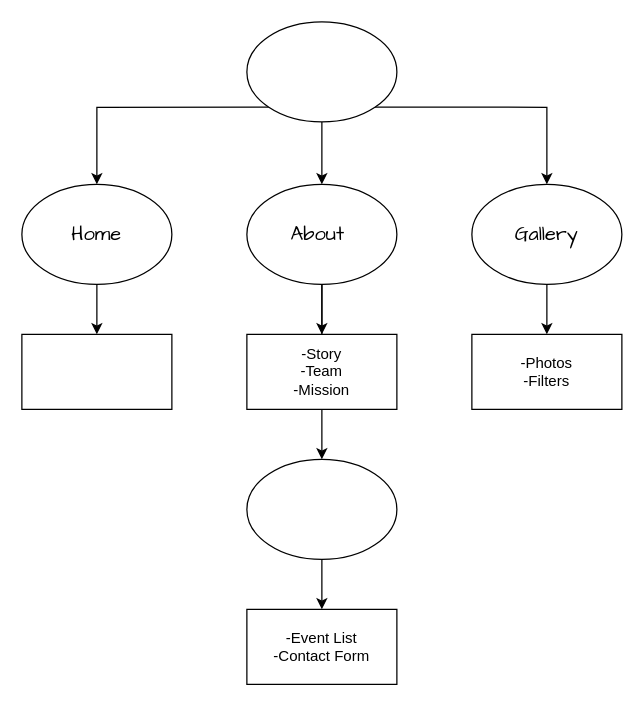
The diagram is 644 pixels wide and 706 high, and some of its shapes have lost their labels. The centre of each missing label's shape, as x and y in pixels:
"-Header -Gallery -Footer" belongs at [96,371].
"Events" belongs at [321,508].
"Street Kuality" belongs at [321,71].
